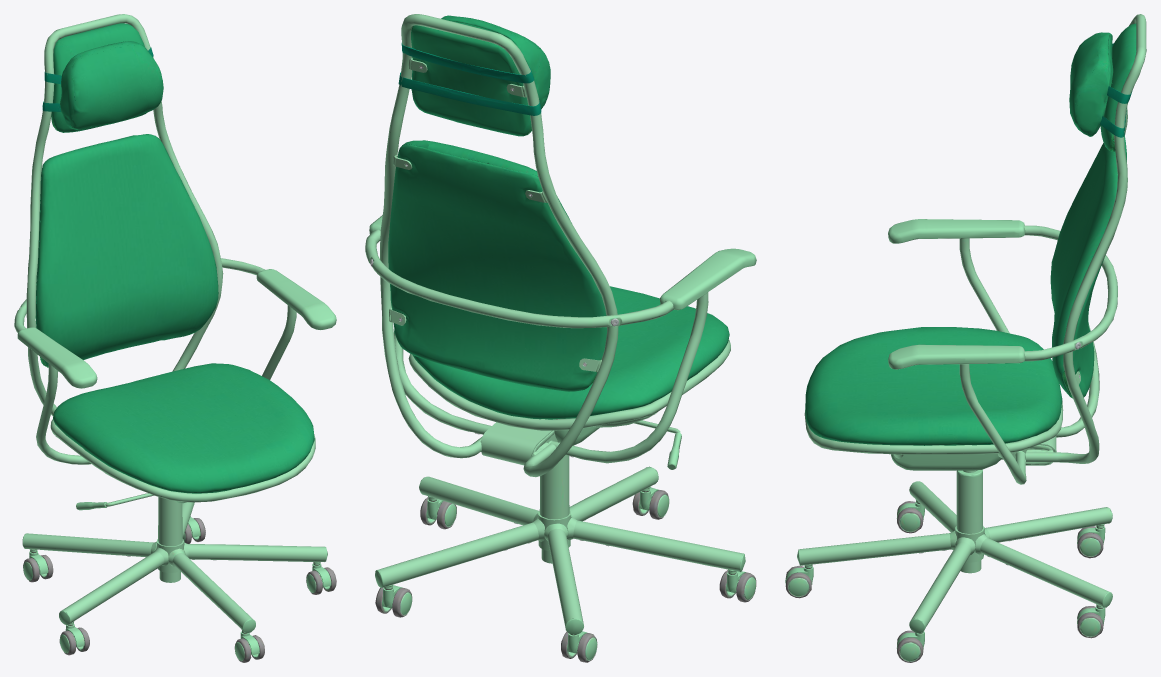
File: loparbana_krzeso_gamingowe_30586325.glb
3 renders of one model, left to right at view 1: azimuth 30°, elevation 25°; view 2: azimuth 150°, elevation 25°; view 3: azimuth 270°, elevation 25°, orthographic. The views are drawn at different scales.
Parts seen in each view (by area): view 1: loparbana_krzeso_gamingowe_30586325; view 2: loparbana_krzeso_gamingowe_30586325; view 3: loparbana_krzeso_gamingowe_30586325.
Part boxes in pixels (bbox=[...]): loparbana_krzeso_gamingowe_30586325: bbox=[14, 14, 336, 662]; loparbana_krzeso_gamingowe_30586325: bbox=[365, 14, 756, 662]; loparbana_krzeso_gamingowe_30586325: bbox=[785, 14, 1146, 662].
Size of the model in its own units: 0.6472 by 1.2 by 0.6966.
1 material, 1 textured.
